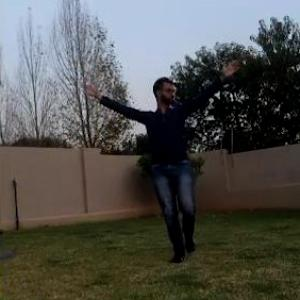takeoff: (86, 59, 243, 256)
